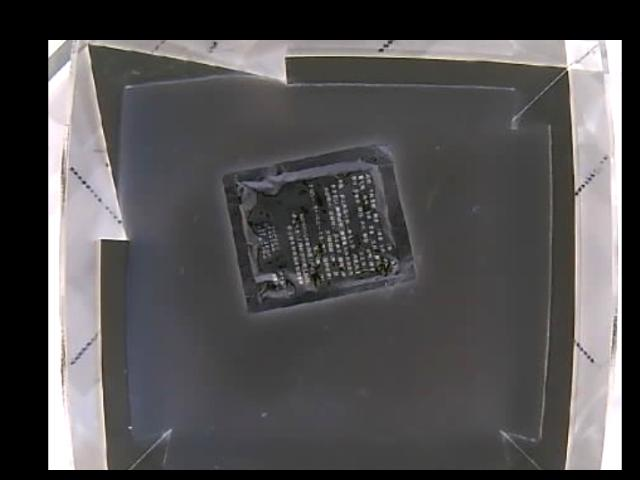Medicine: (224, 141, 416, 311)
